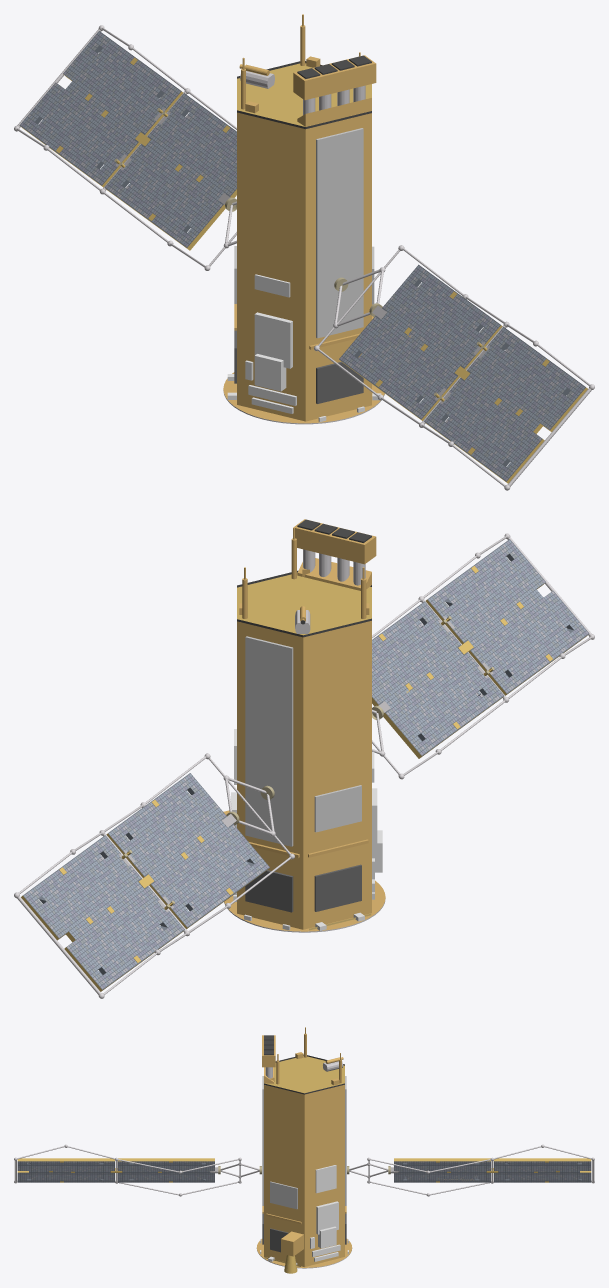
Rendered from OrbitingCarbonObservatoryOCO2.glb.
The picture shows the model from 3 angles, top to bottom: view 1: azimuth 30°, elevation 25°; view 2: azimuth 150°, elevation 25°; view 3: azimuth 270°, elevation 25°; orthographic projection. The views are drawn at different scales.
Visible parts, largest first — view 1: Layer_0; view 2: Layer_0; view 3: Layer_0.
Part boxes in pixels (<box>): Layer_0: <box>14,14,594,490</box>; Layer_0: <box>14,519,594,998</box>; Layer_0: <box>14,1027,594,1273</box>.
Size of the model in its own units: 7.63 by 15.42 by 39.87.
